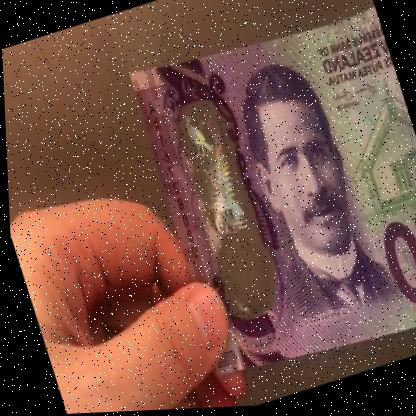50F: (172, 98, 272, 304)
